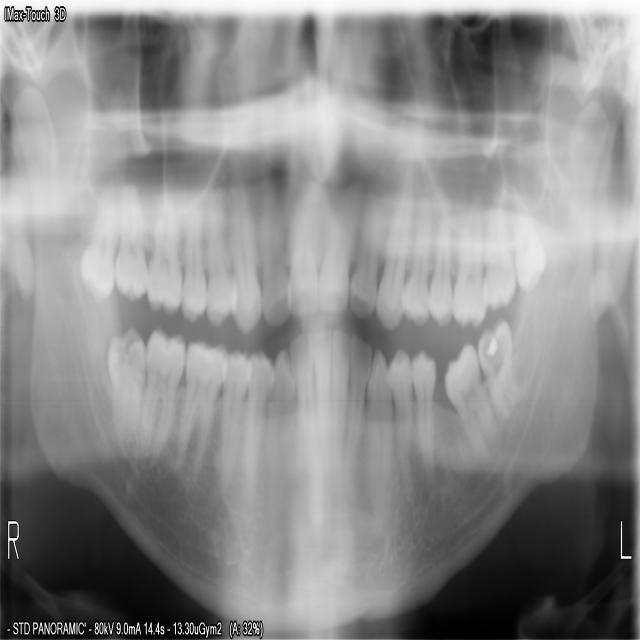LCD: (366, 343, 392, 514)
LCU: (374, 168, 412, 332)
LID: (346, 331, 372, 487), (332, 325, 350, 486)
LIU: (348, 175, 388, 321), (319, 180, 360, 316)
LMD: (441, 336, 500, 470), (476, 315, 525, 425)
LMU: (510, 178, 548, 300), (452, 191, 484, 334), (483, 182, 516, 313)
LPMD: (388, 343, 415, 509), (411, 341, 436, 505)
LPMU: (401, 191, 433, 331), (429, 200, 455, 332)
RCD: (265, 342, 293, 513)
RCU: (228, 168, 259, 338)
RID: (287, 326, 315, 481), (311, 324, 333, 480)
RIU: (285, 176, 321, 320), (260, 174, 288, 330)
RMD: (126, 321, 187, 471), (168, 333, 224, 493), (104, 319, 145, 464)
RMU: (76, 171, 117, 307), (143, 182, 180, 320), (112, 175, 145, 305)
RPMD: (239, 343, 273, 512), (213, 342, 247, 504)
RPMU: (201, 181, 230, 330), (179, 191, 203, 326)
